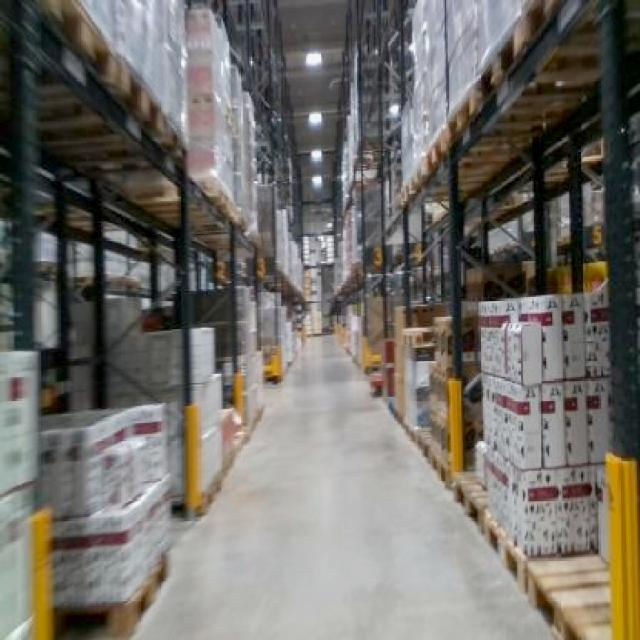pallets: (478, 294, 606, 552), (38, 403, 168, 605)
